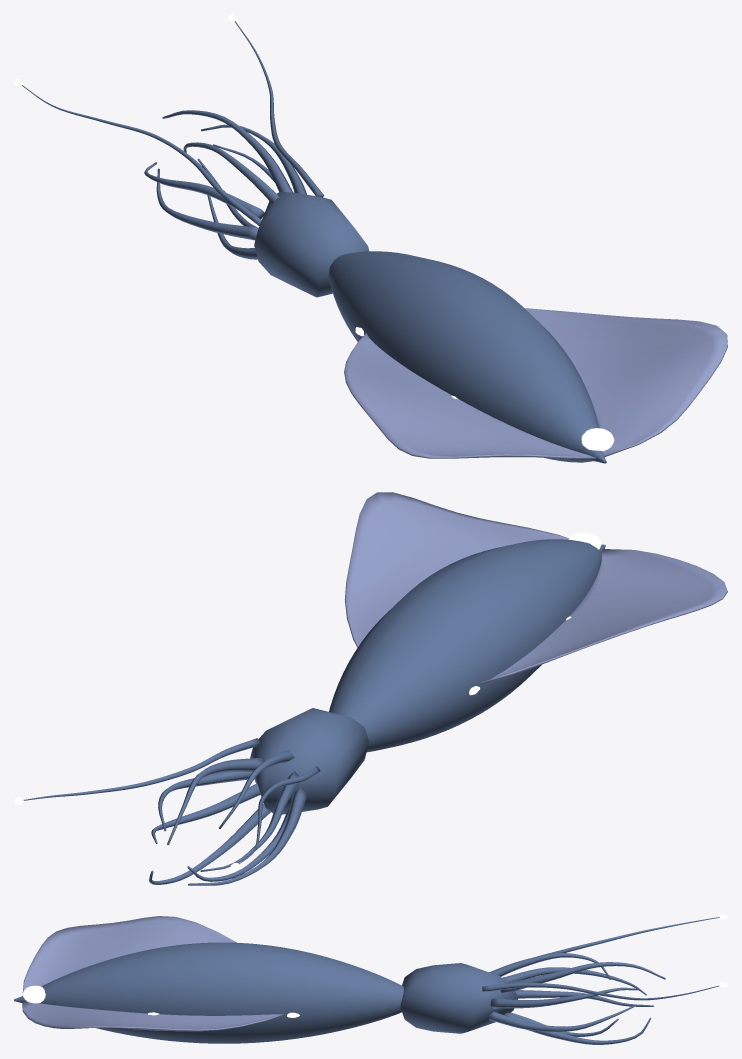
3 renders of one model, top to bottom at view 1: azimuth 30°, elevation 25°; view 2: azimuth 150°, elevation 25°; view 3: azimuth 270°, elevation 25°, orthographic. The views are drawn at different scales.
Parts seen in each view (by area): view 1: RIMWARD_HULL; view 2: RIMWARD_HULL; view 3: RIMWARD_HULL, RIMWARD_ENGINE_GLOW.
Boxes of the visible parts, x1,y1,x2,y2 form: RIMWARD_HULL: (22,21,727,463); RIMWARD_HULL: (23,492,727,885); RIMWARD_HULL: (14,916,719,1044); RIMWARD_ENGINE_GLOW: (22,985,45,1003).
Size of the model in its own units: 2.91 by 1.05 by 7.2.
